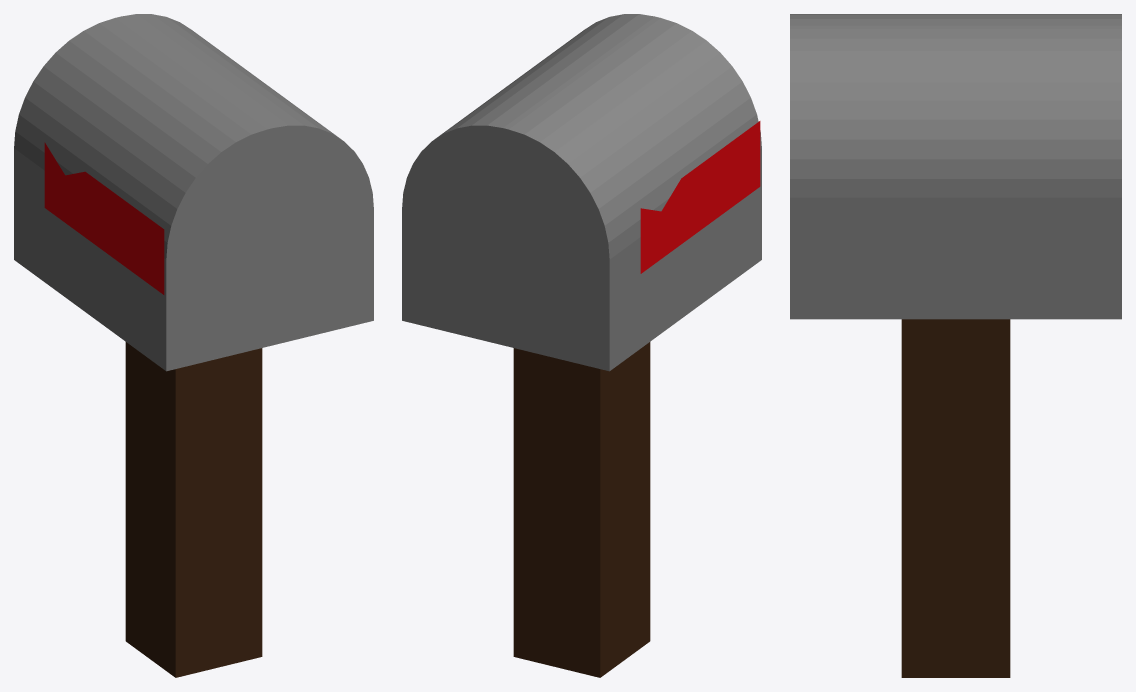
File: Post box.fbx
3 renders of one model, left to right at view 1: azimuth 30°, elevation 25°; view 2: azimuth 150°, elevation 25°; view 3: azimuth 270°, elevation 25°, orthographic. The views are drawn at different scales.
Visible parts, largest first — view 1: Cube; view 2: Cube; view 3: Cube.
Part boxes in pixels (x1,y1,x2,y2): Cube: (14, 14, 373, 677); Cube: (402, 14, 761, 677); Cube: (790, 14, 1121, 677).
Size of the model in its own units: 200 by 530 by 254.
